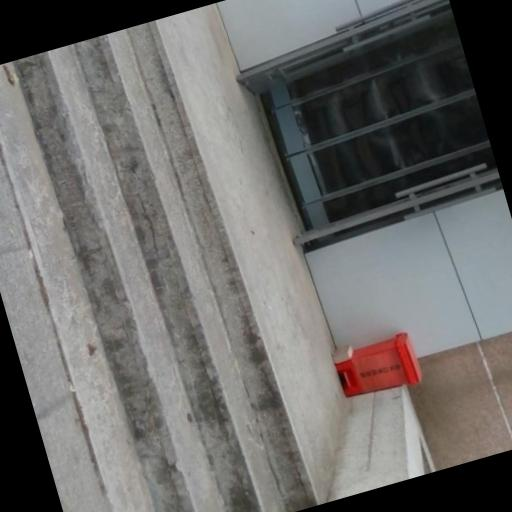stairs: (14, 21, 318, 511)
